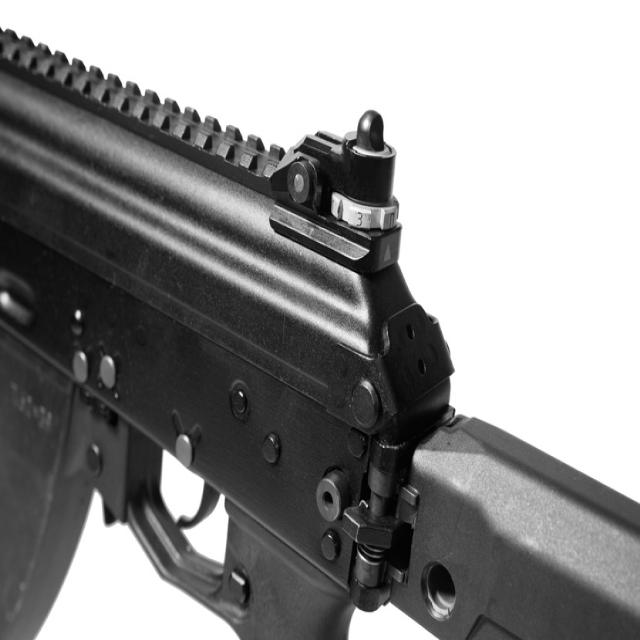firearm: (0, 28, 639, 639)
